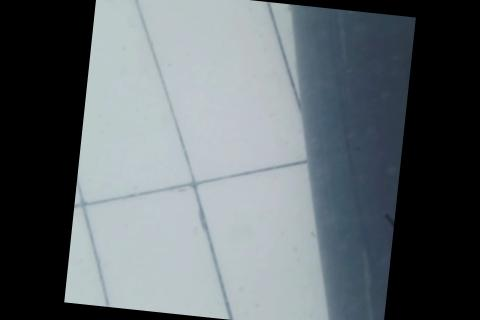keretakan: (378, 213, 395, 260)
